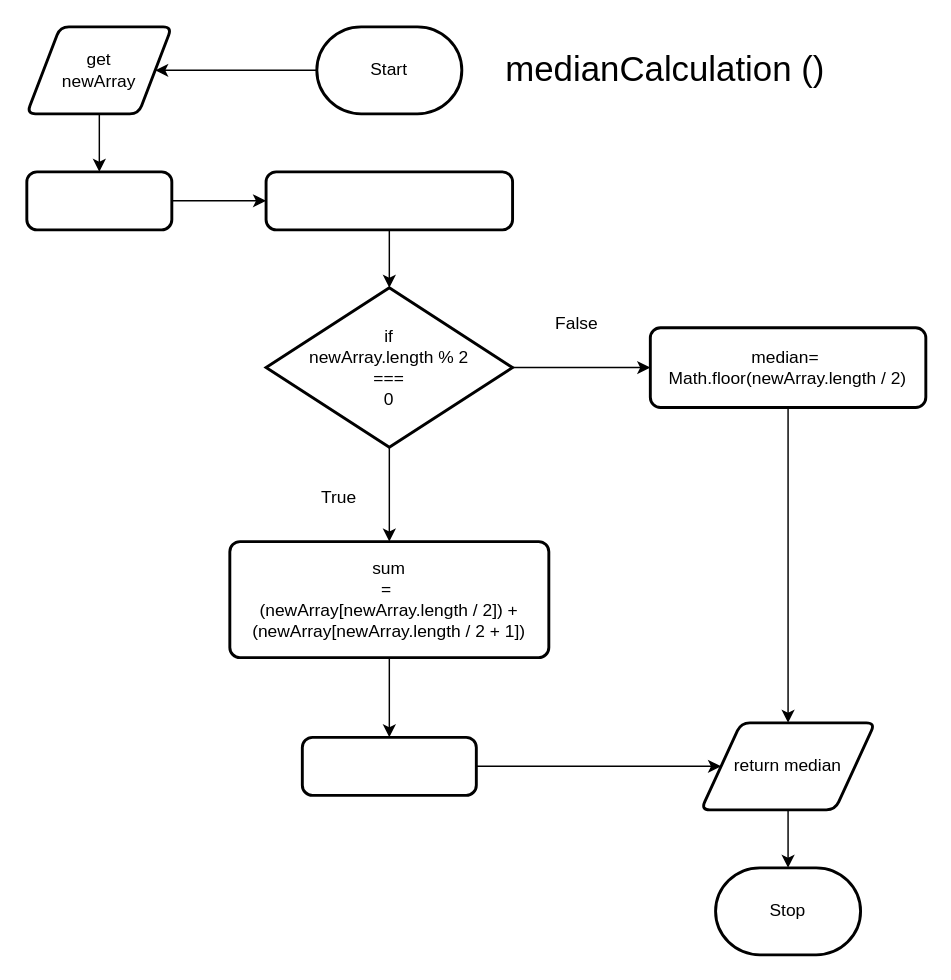
Some shapes in this 951 by 980 pixel diagram are drawn without their labels. Here are the shapes that lost their labels. From the top down, the centre of each, then its label:
At point 99,200: "sum = 0".
At point 388,200: "newArray.sort((a, b) => a - b)".
At point 388,765: "median = sum / 2".
